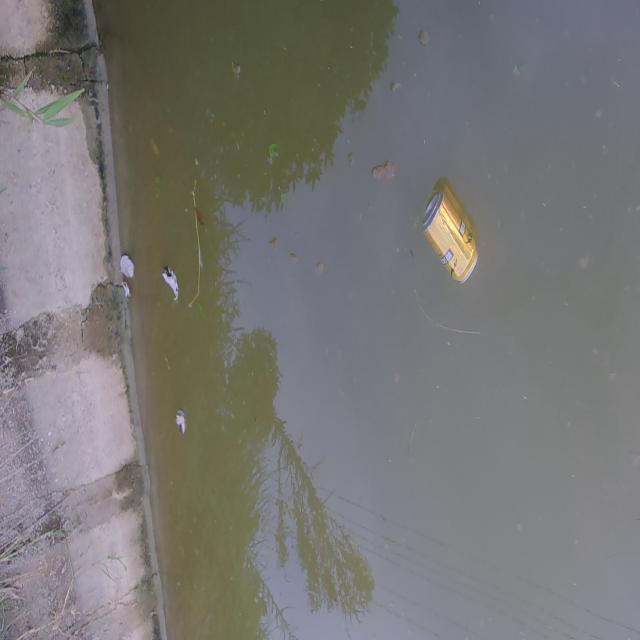garbage: (421, 176, 479, 285)
